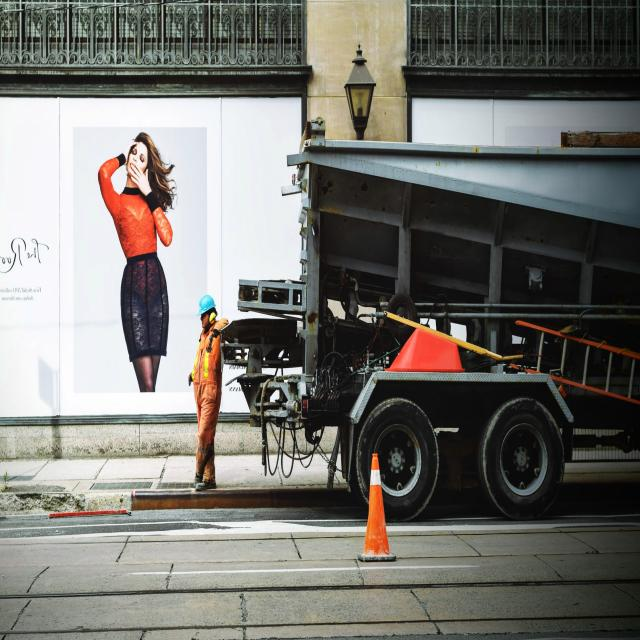adult: (186, 297, 227, 489)
